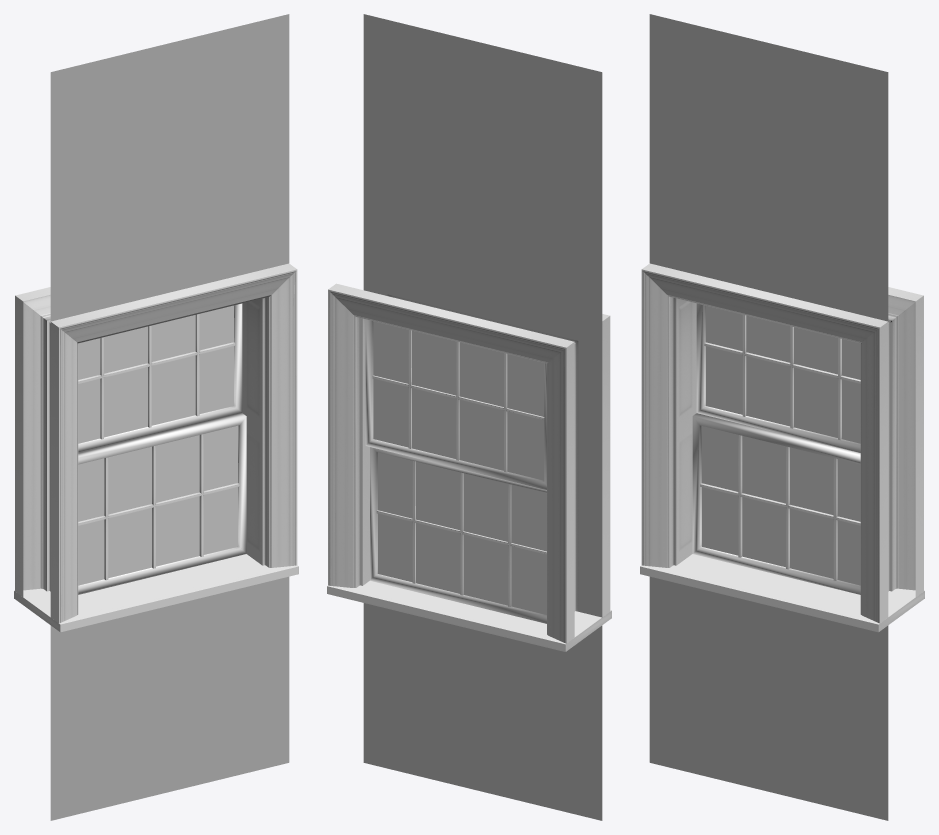
Rendered from WallWindow.fbx.
The picture shows the model from 3 angles, left to right: view 1: azimuth 30°, elevation 25°; view 2: azimuth 150°, elevation 25°; view 3: azimuth 330°, elevation 25°; orthographic projection.
Parts seen in each view (by area): view 1: WallWindow, WindowArch, Glass, Glass.003, Board, GlassFrameBottom, GlassFrameTop; view 2: WallWindow, WindowArch, Glass, Glass.003, Board, GlassFrameBottom, GlassFrameTop; view 3: WallWindow, WindowArch, Glass, Glass.003, Board, GlassFrameBottom, GlassFrameTop.
Boxes of the visible parts, x1,y1,x2,y2 form: WallWindow: [50, 14, 289, 820]; WindowArch: [15, 263, 297, 623]; Glass: [78, 425, 237, 585]; Glass.003: [78, 305, 233, 443]; Board: [14, 554, 298, 632]; GlassFrameBottom: [78, 413, 246, 594]; GlassFrameTop: [78, 303, 242, 452]; WallWindow: [363, 14, 602, 820]; WindowArch: [328, 283, 610, 643]; Glass: [377, 452, 546, 614]; Glass.003: [373, 321, 544, 480]; Board: [327, 581, 611, 651]; GlassFrameBottom: [370, 447, 546, 623]; GlassFrameTop: [365, 319, 546, 489]; WallWindow: [649, 14, 888, 820]; WindowArch: [641, 263, 923, 623]; Glass: [701, 426, 860, 585]; Glass.003: [705, 305, 860, 443]; Board: [640, 554, 924, 632]; GlassFrameBottom: [692, 413, 860, 594]; GlassFrameTop: [696, 303, 860, 452].
Size of the model in its own units: 100 by 300 by 33.62.
3 materials, 2 textured.
